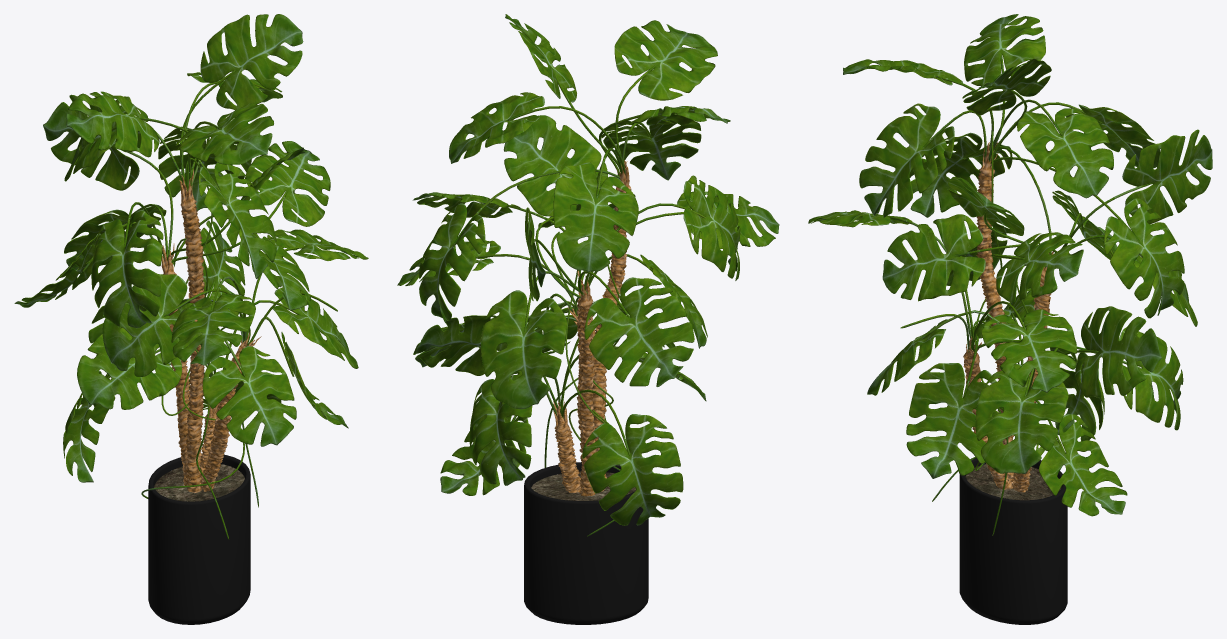
The model's file is plantMonstera.glb.
3 renders of one model, left to right at view 1: azimuth 30°, elevation 25°; view 2: azimuth 150°, elevation 25°; view 3: azimuth 270°, elevation 25°, orthographic.
Parts seen in each view (by area): view 1: Big Monstera plant, plant.060, plant.035, plant.015, plant.012, plant.063, plant.003, plant.034, plant.038, plant.051, plant.058, plant.001 (+16 smaller); view 2: Big Monstera plant, plant.040, plant.007, plant.055, plant.062, plant.058, plant.033, plant.052, plant.032, plant.015, plant.063, plant.028 (+13 smaller); view 3: Big Monstera plant, plant.010, plant.013, plant.063, plant.008, plant.028, plant.032, plant.031, plant.049, plant.004, plant.009, plant.003 (+16 smaller).
Boxes of the visible parts, box(x1,y1,x2,y2) form: Big Monstera plant: box(148, 454, 250, 624); plant.060: box(200, 14, 303, 110); plant.035: box(202, 346, 296, 446); plant.015: box(91, 210, 163, 328); plant.012: box(102, 274, 204, 376); plant.063: box(198, 162, 276, 278); plant.003: box(245, 141, 330, 226); plant.034: box(77, 327, 181, 409); plant.038: box(171, 293, 255, 365); plant.051: box(179, 169, 204, 492); plant.058: box(175, 103, 273, 164); plant.001: box(66, 91, 159, 157); Big Monstera plant: box(524, 462, 648, 624); plant.040: box(584, 277, 694, 386); plant.007: box(582, 414, 683, 525); plant.055: box(481, 290, 566, 409); plant.062: box(553, 162, 638, 271); plant.058: box(614, 20, 717, 100); plant.033: box(503, 115, 607, 216); plant.052: box(469, 370, 532, 485); plant.032: box(419, 203, 485, 323); plant.015: box(683, 175, 740, 280); plant.063: box(601, 113, 701, 180); plant.028: box(449, 92, 544, 163); Big Monstera plant: box(959, 458, 1067, 624); plant.010: box(975, 364, 1068, 473); plant.013: box(906, 363, 1003, 478); plant.063: box(859, 103, 954, 217); plant.008: box(882, 214, 985, 301); plant.028: box(1017, 108, 1113, 198); plant.032: box(1104, 198, 1184, 318); plant.031: box(1075, 306, 1161, 397); plant.049: box(981, 309, 1076, 392); plant.004: box(1122, 129, 1212, 223); plant.009: box(1036, 414, 1127, 516); plant.003: box(996, 232, 1083, 302).
Size of the model in its own units: 1.53 by 2.66 by 1.7.
58 materials, 57 textured.
